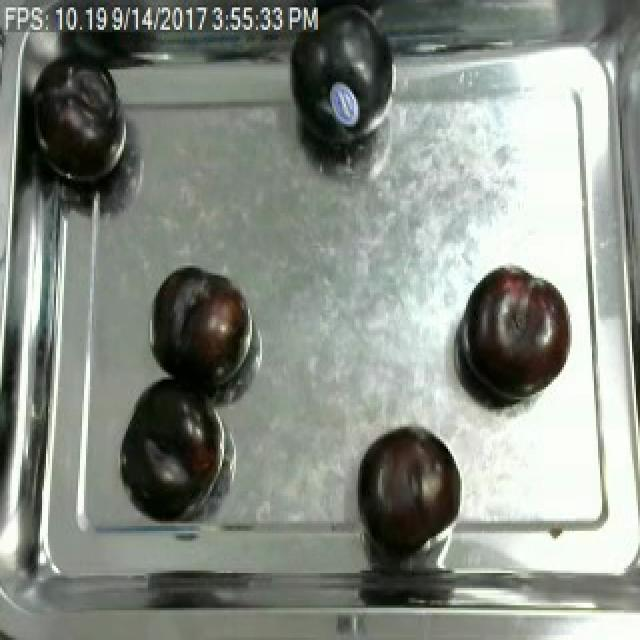Fruit: (276, 0, 408, 146), (460, 260, 574, 410), (116, 369, 228, 518), (146, 260, 252, 392), (354, 422, 462, 550), (40, 60, 128, 186)
